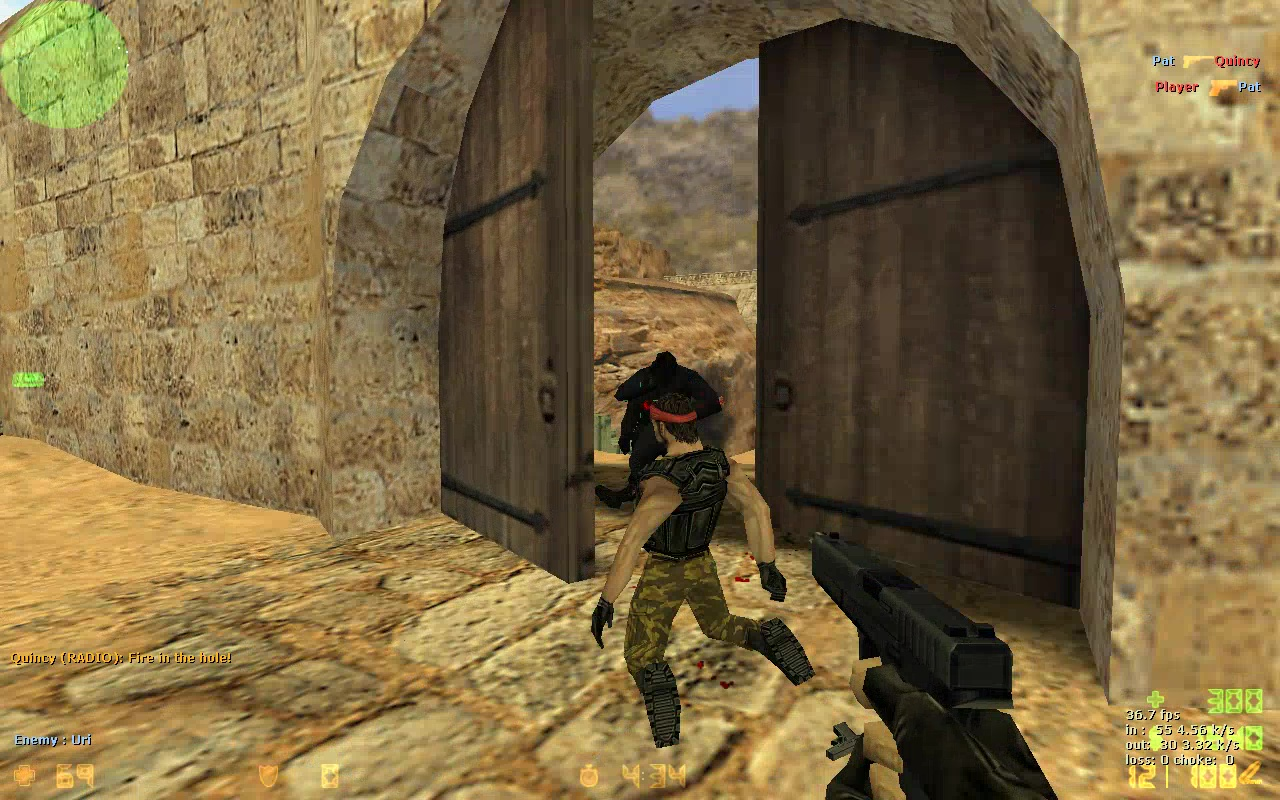terr1: (589, 393, 817, 746)
